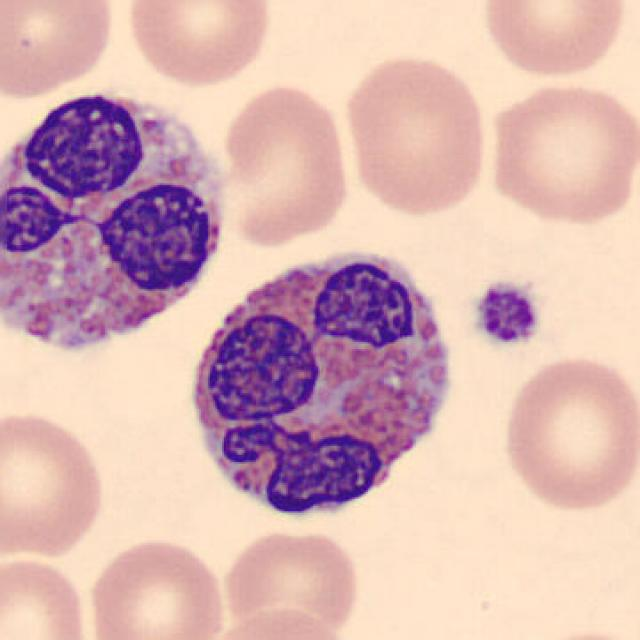Eosinophil: (175, 229, 470, 538), (0, 76, 240, 368)
Platelets: (469, 277, 546, 351)
RBC: (340, 49, 492, 220), (212, 80, 354, 250), (482, 78, 638, 229), (496, 351, 638, 516), (0, 407, 108, 560), (217, 524, 363, 636), (84, 534, 230, 640), (121, 0, 277, 90), (477, 0, 631, 83), (0, 0, 119, 100), (0, 552, 94, 640), (197, 604, 357, 640), (514, 626, 638, 640)
